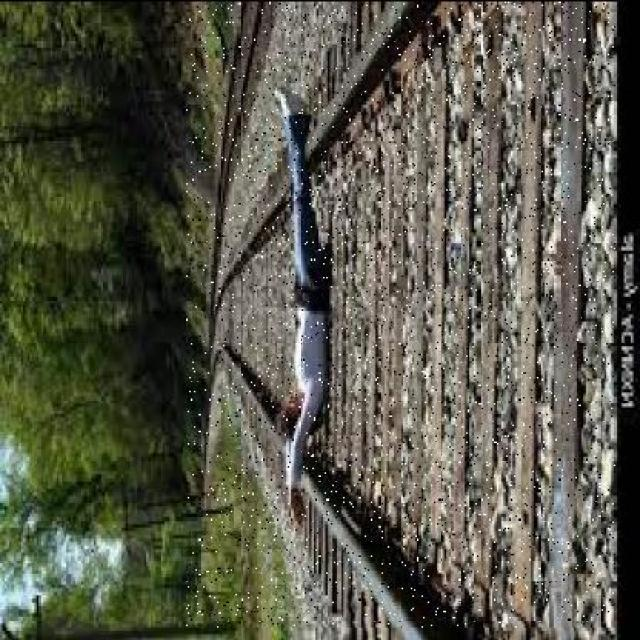danger: (268, 72, 332, 522)
rail: (187, 0, 615, 626)
